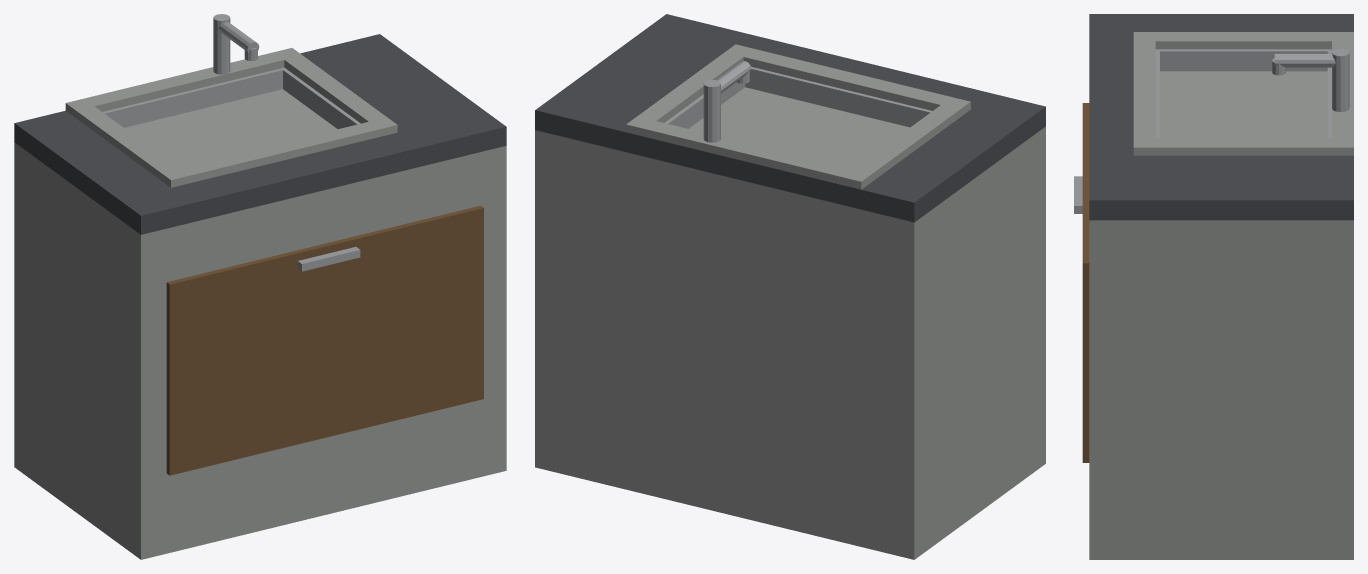
Rendered from counter_sink.glb.
3 views of the same model, side by side, from view 1: azimuth 30°, elevation 25°; view 2: azimuth 150°, elevation 25°; view 3: azimuth 270°, elevation 25° (orthographic). The views are drawn at different scales.
Visible parts, largest first — view 1: counter_sink; view 2: counter_sink; view 3: counter_sink.
Boxes of the visible parts, x1,y1,x2,y2 form: counter_sink: (14, 14, 506, 559); counter_sink: (535, 14, 1045, 559); counter_sink: (1074, 14, 1353, 559).
Bounding box in the file's own units: 1 × 1.06 × 0.635.
